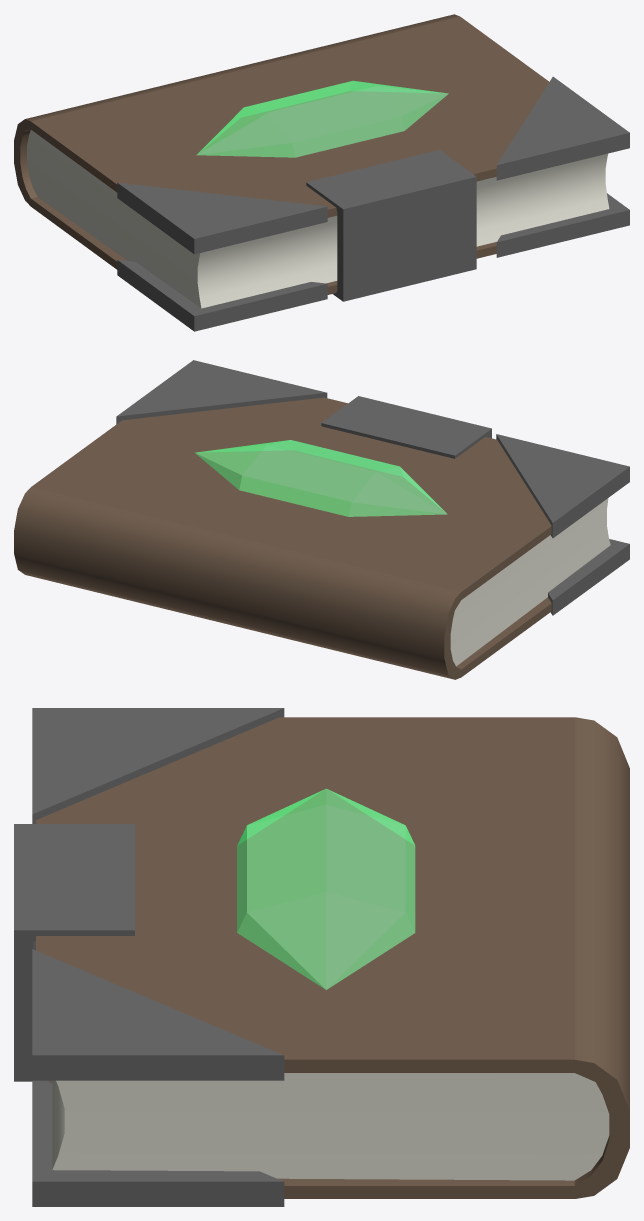
File: BDSM_LivreMagique.fbx
3 views of the same model, one above another, from view 1: azimuth 30°, elevation 25°; view 2: azimuth 150°, elevation 25°; view 3: azimuth 270°, elevation 25° (orthographic). The views are drawn at different scales.
Parts seen in each view (by area): view 1: pCube6; view 2: pCube6; view 3: pCube6.
Boxes of the visible parts, x1,y1,x2,y2 form: pCube6: [14, 14, 629, 331]; pCube6: [14, 360, 629, 679]; pCube6: [14, 708, 629, 1206].
Size of the model in its own units: 3.27 by 0.8184 by 2.45.
